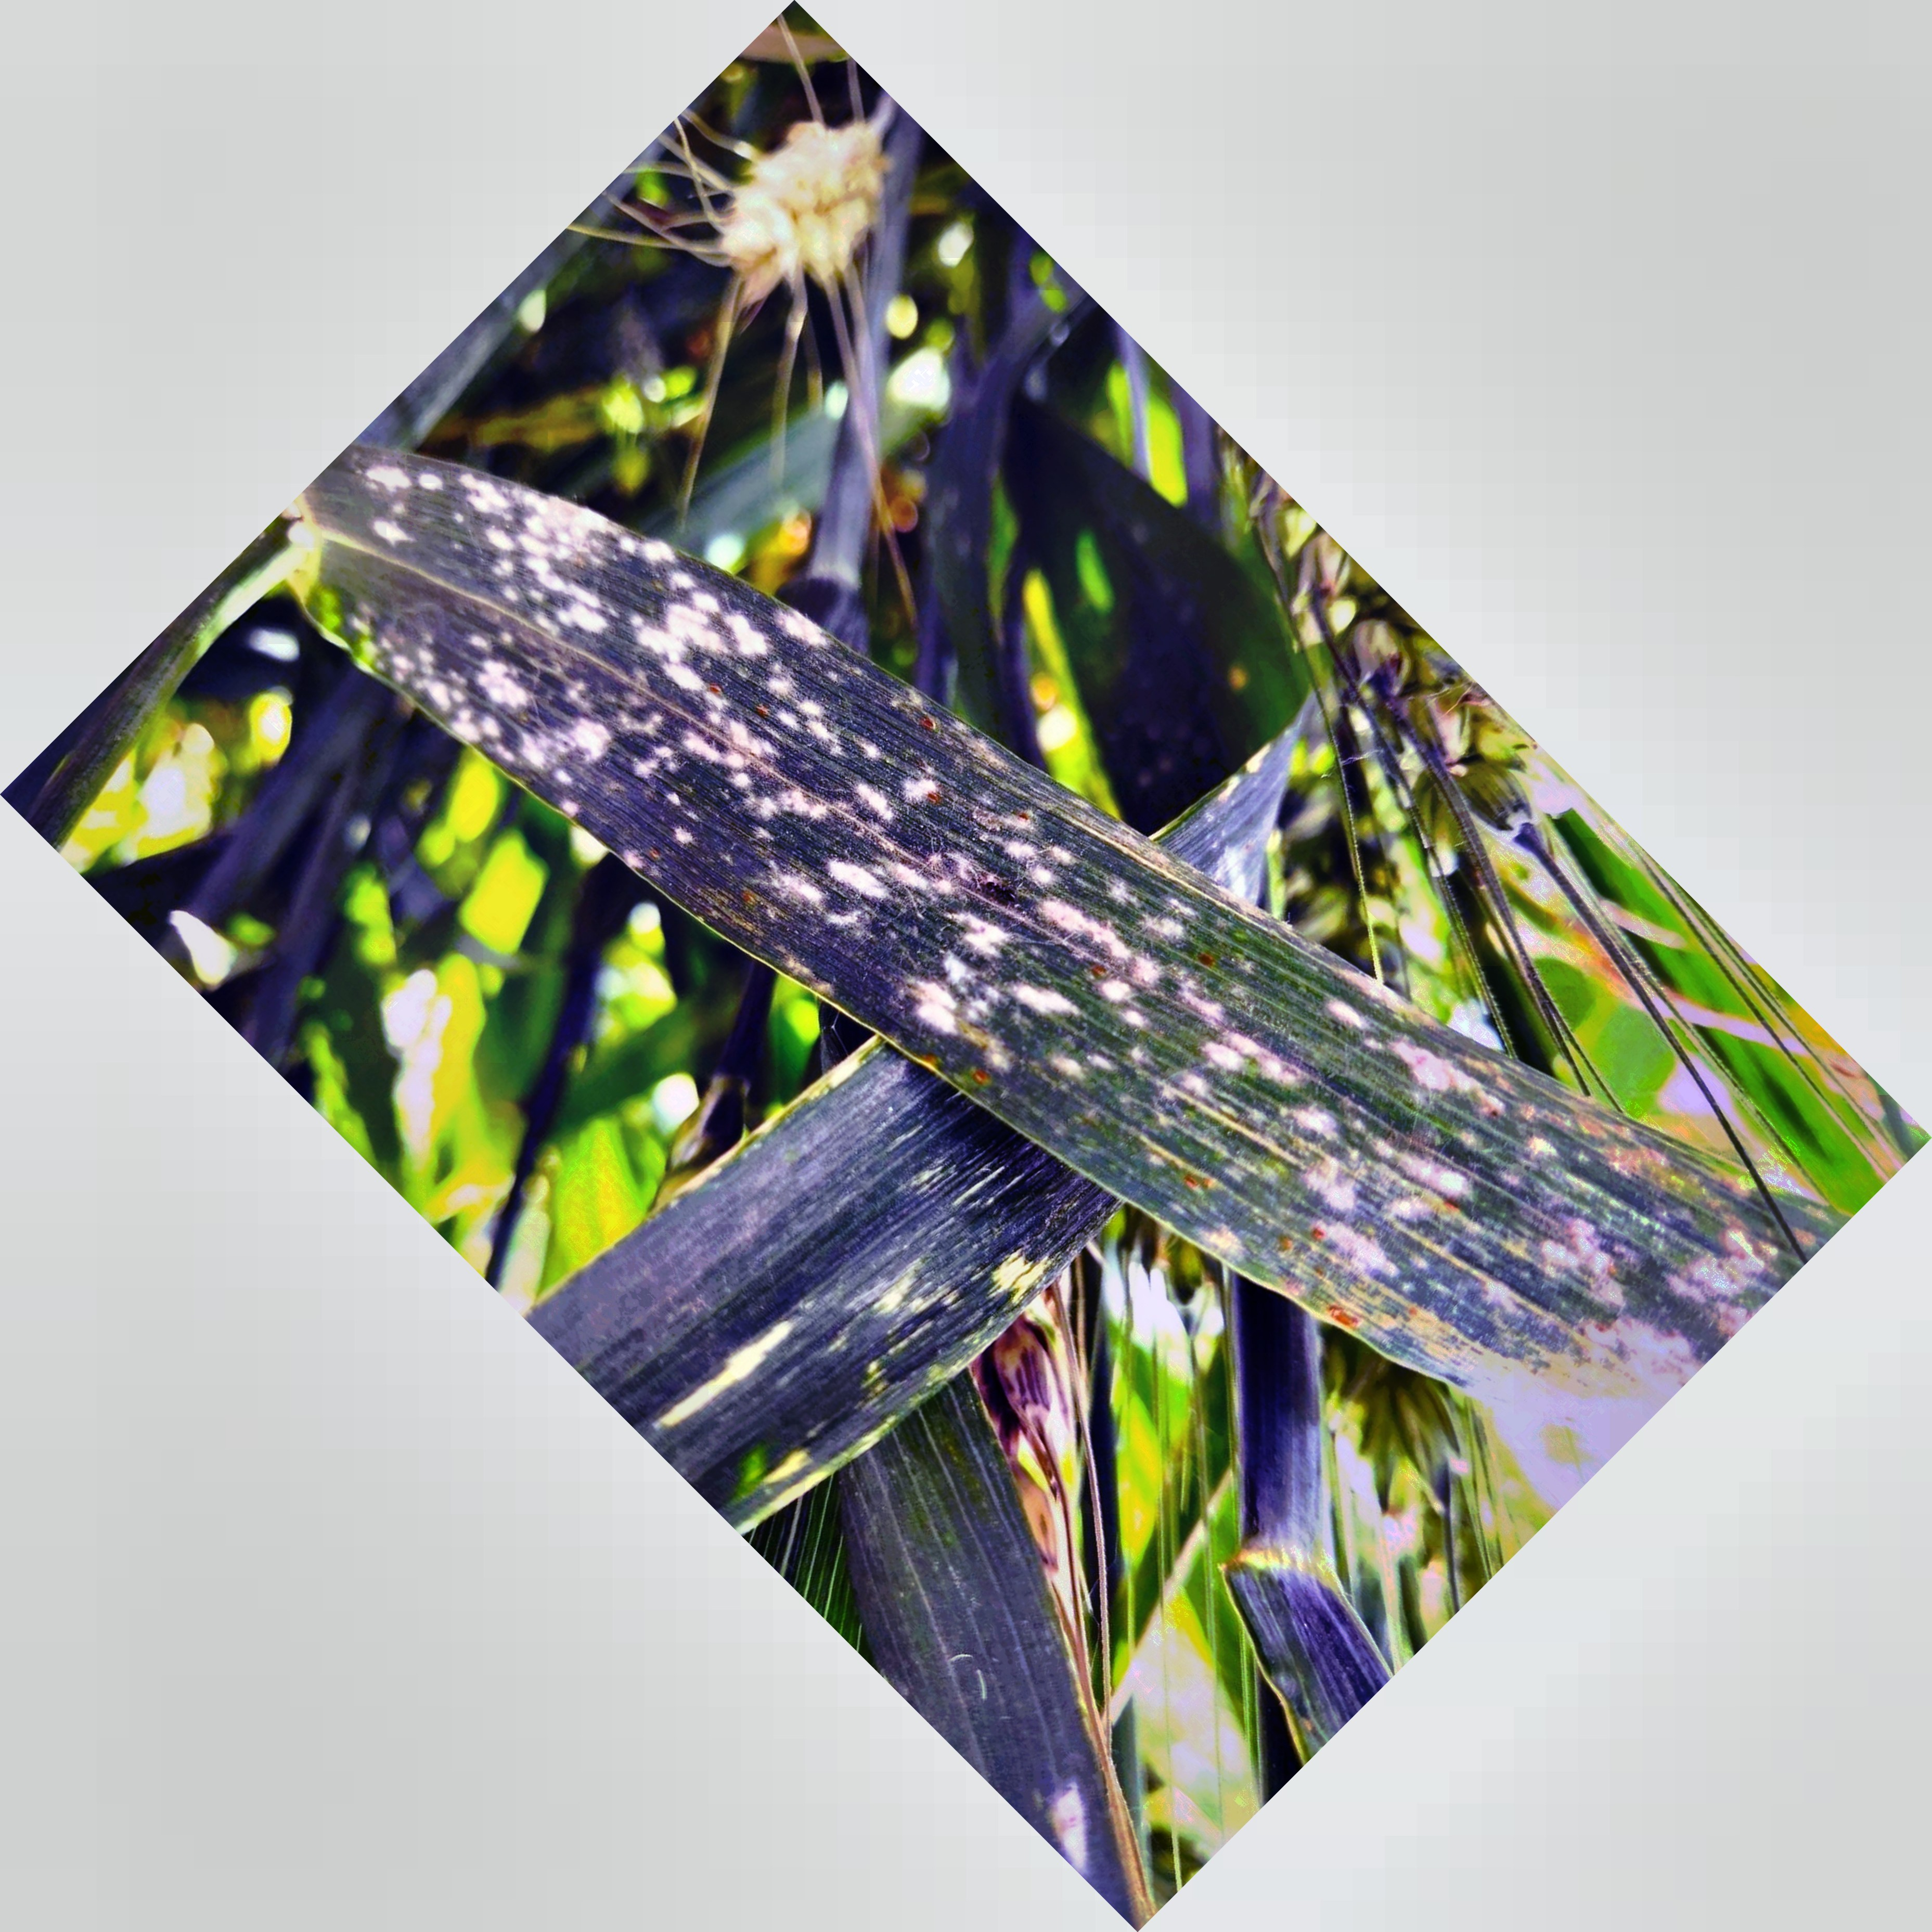Powdery Mildew: (359, 517, 1606, 1336)
